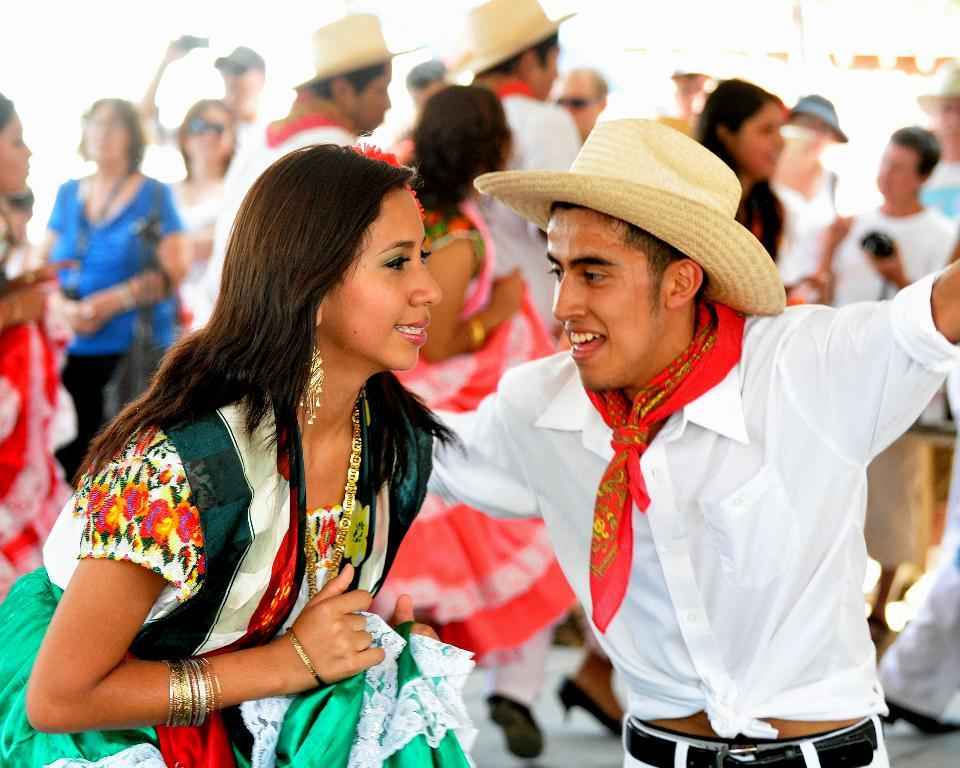Hat: (471, 114, 786, 320), (443, 0, 577, 79), (288, 13, 419, 89), (783, 92, 847, 146), (212, 44, 262, 67)
